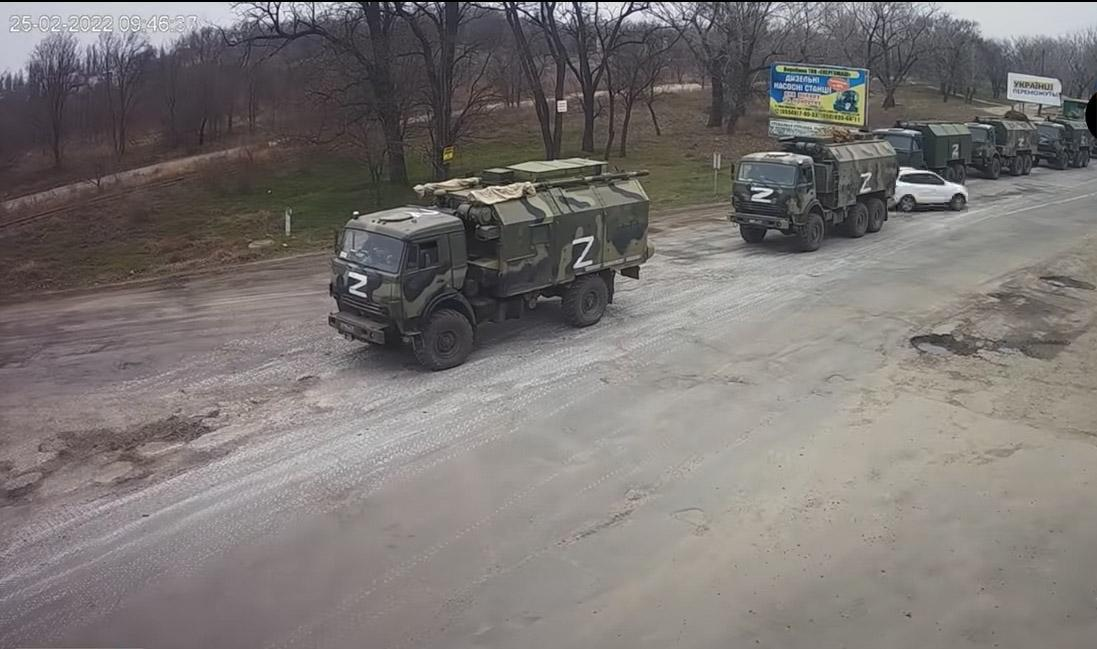car: (899, 169, 968, 210)
truck: (321, 155, 662, 370), (720, 134, 889, 244), (883, 110, 979, 184), (969, 110, 1042, 181), (1032, 115, 1096, 174)
